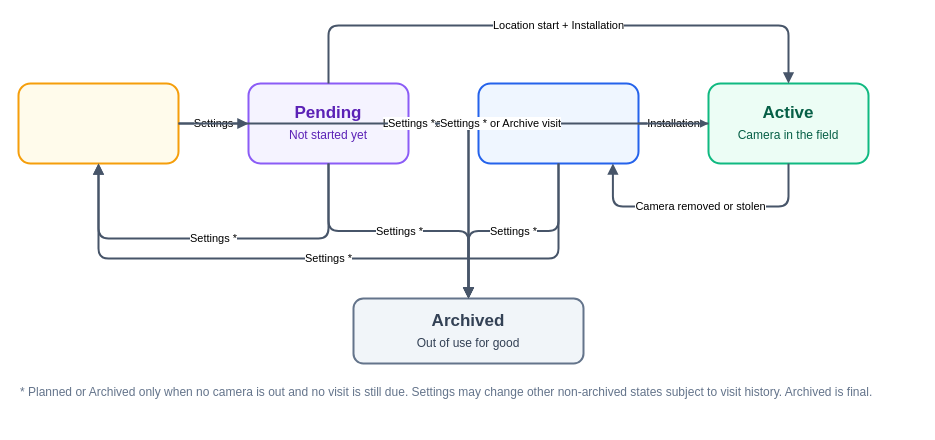
The diagram is 935 pixels wide and 440 high, and some of its shapes have lost their labels. The box of each missing label's shape, as (x1, y1, x2, y2) in pixels:
Planned Only in Settings: (17, 82, 179, 164)
Ready Started; no camera: (477, 82, 639, 164)
